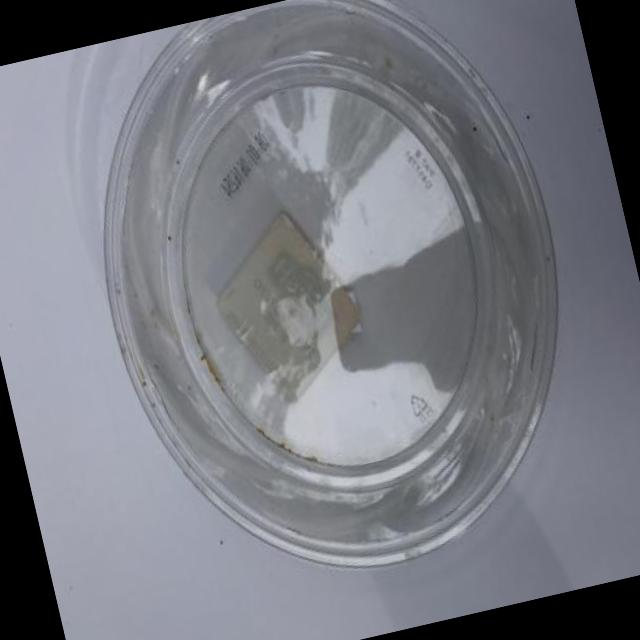Recycle: (51, 0, 617, 614)
